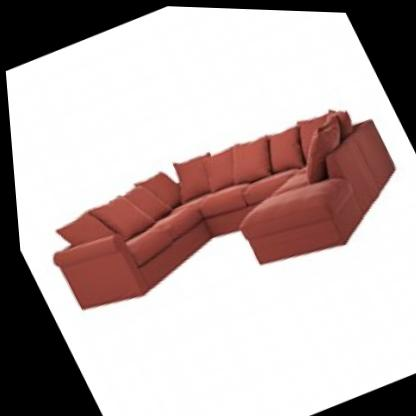Sofa: (3, 54, 416, 369)
